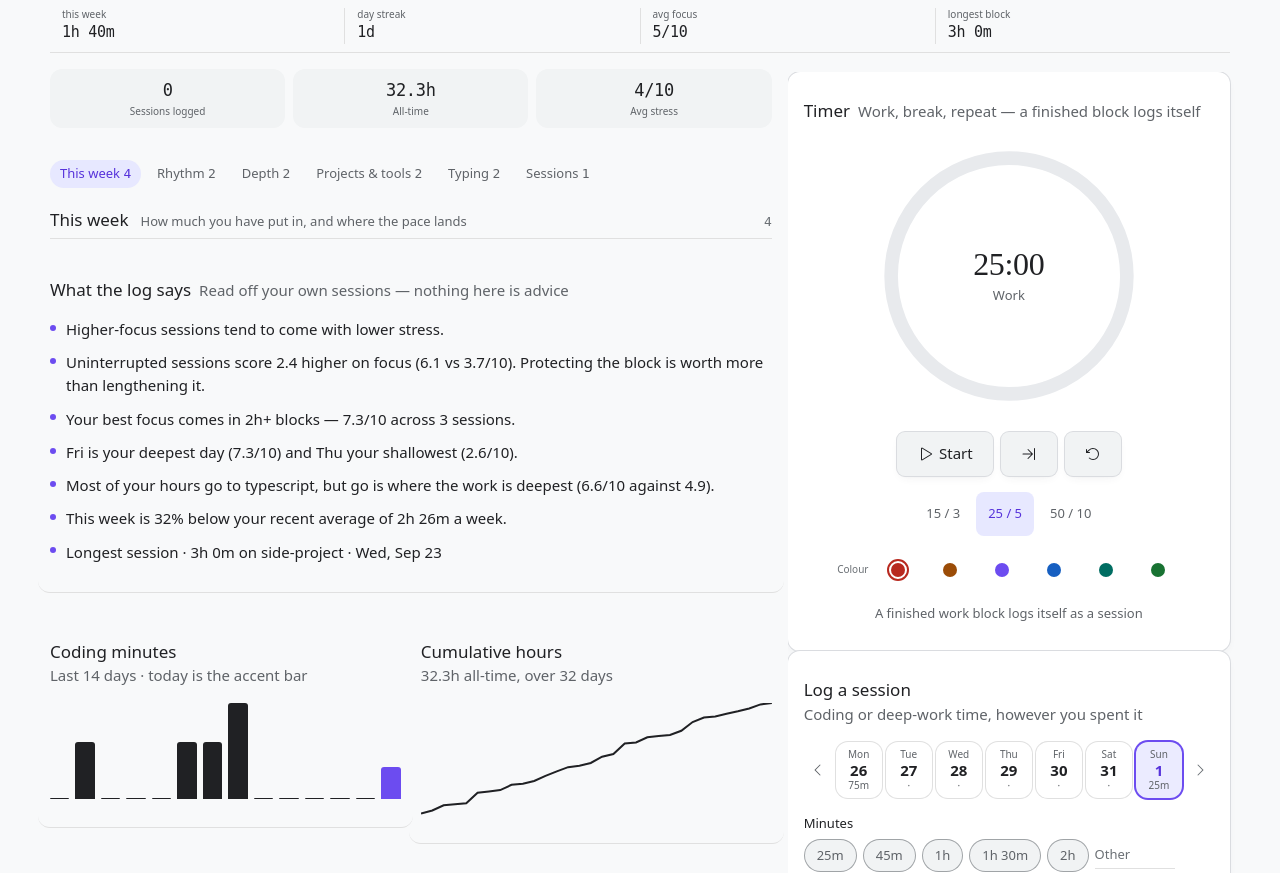
Test case: Focus · the registry is the review zone › renders typing practice with real figures, not em dashes
Click the button "Typing 2" at (474, 174), box x1=438 y1=160 x2=510 y2=188
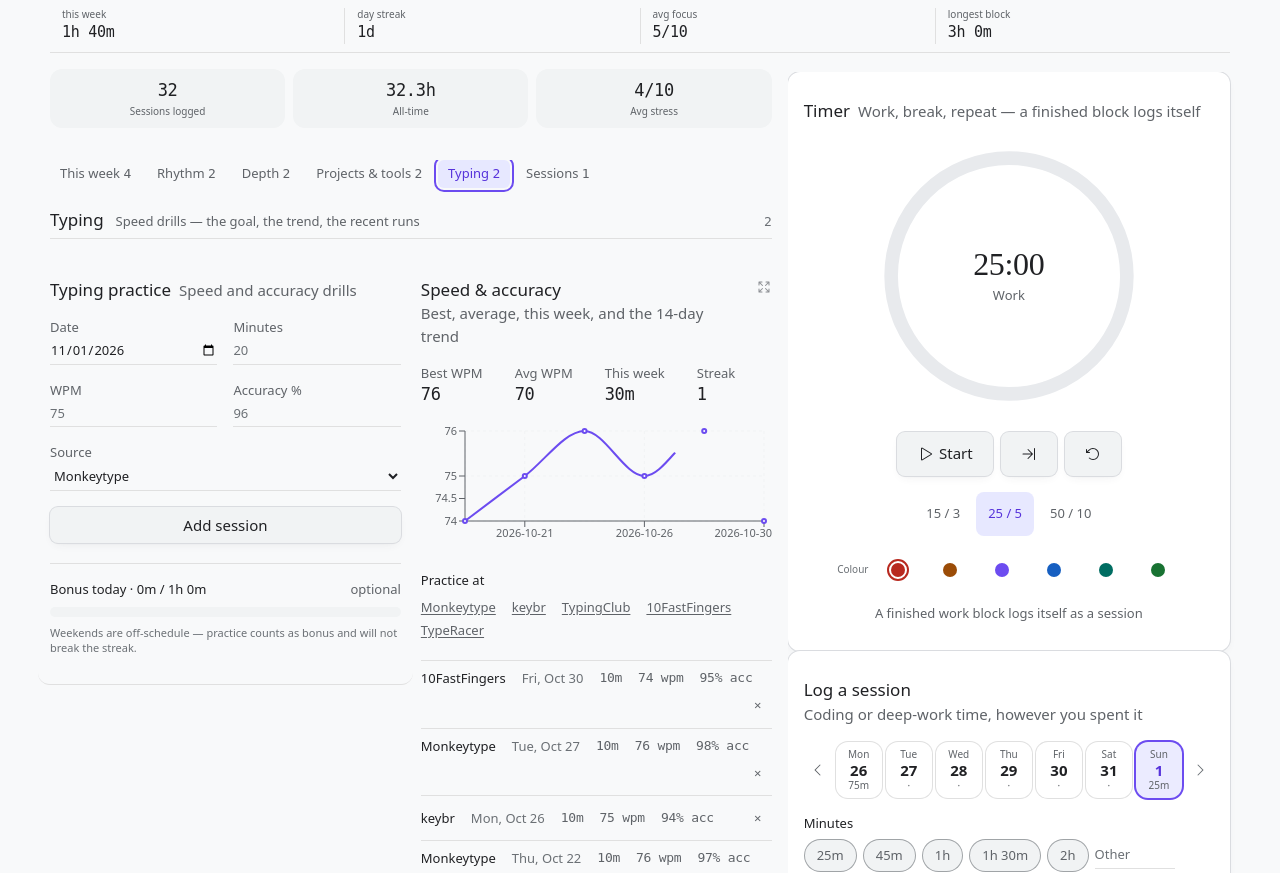
Now the picture named "Best WPM per practised day: 2026-10-19 74, 2026-10-21 75, 20" is shown, box x1=421 y1=423 x2=772 y2=551
